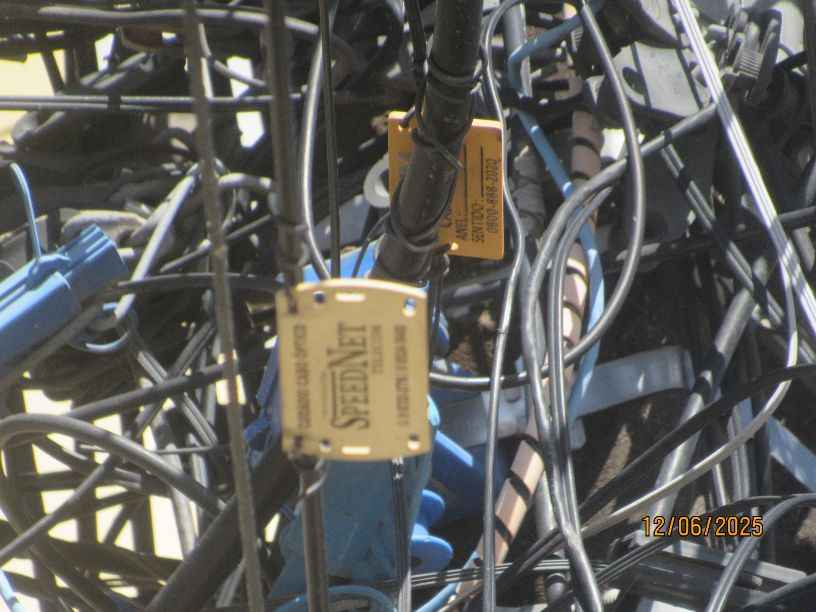fibra_optica: (261, 269, 456, 477)
